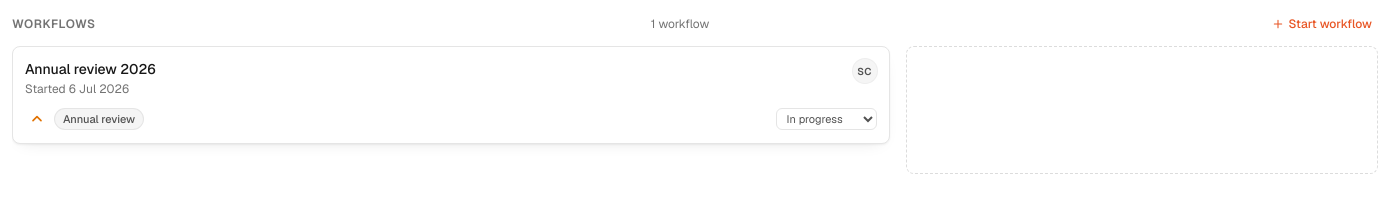
Test: the group page’s workflow cards › a refused move snaps back with the reason
Select "Completed" in the dropdown named "Move Annual review 2026 to" at (826, 119), box [776, 108, 876, 130]
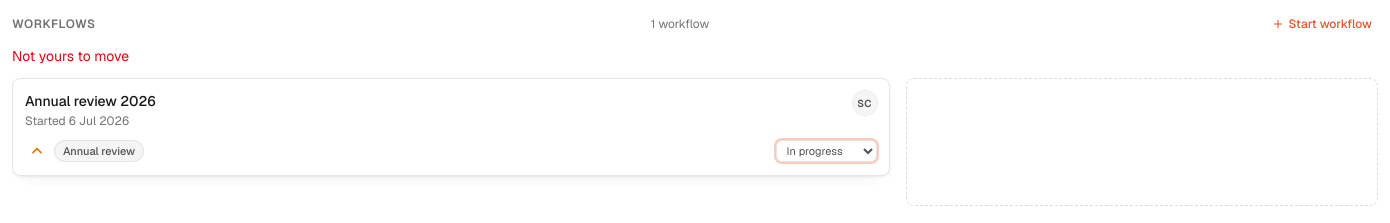
Result: the message reads "Not yours to move" at [12, 47, 129, 65]
